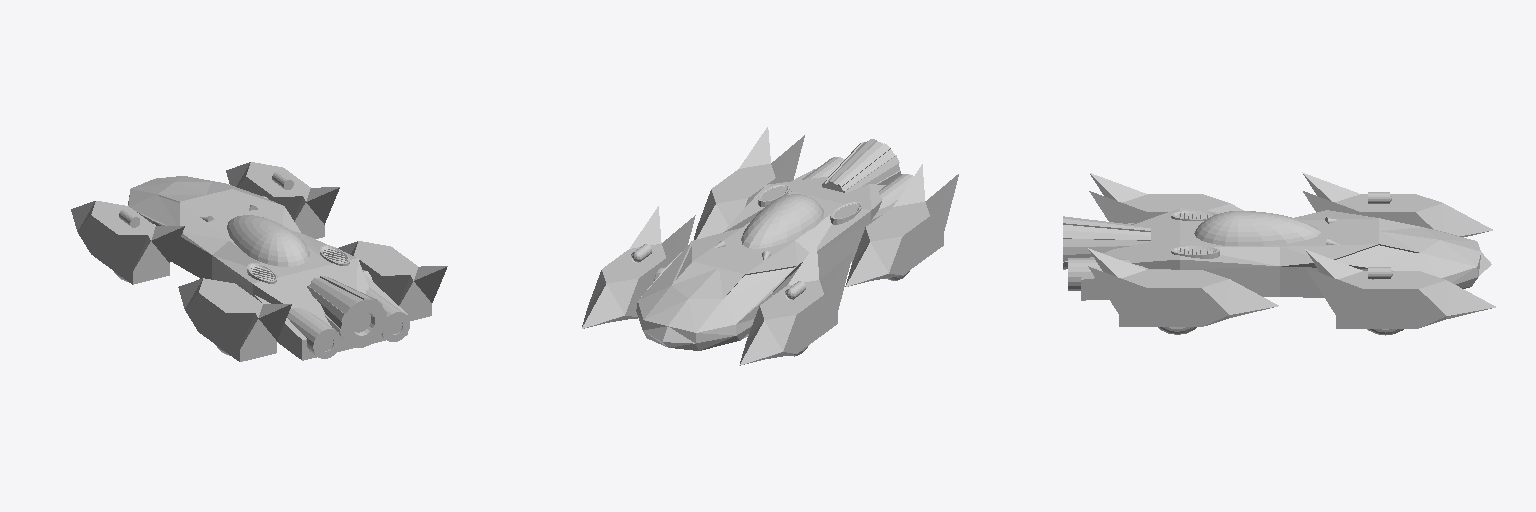
File: LandVehicle.obj
The picture shows the model from 3 angles: view 1: azimuth 30°, elevation 25°; view 2: azimuth 150°, elevation 25°; view 3: azimuth 270°, elevation 25°; orthographic projection.
Parts seen in each view (by area): view 1: Main_Body, Main_Body Back_Left, Main_Body Front_Left, Main_Body Back_Right, Main_Body Front_Right, Main_Body Big_Thrusters, Main_Body Back_Window, Main_Body Thrusters_2, Main_Body Front_Window, Main_Body Thrusters_1; view 2: Main_Body, Main_Body Back_Left, Main_Body Front_Left, Main_Body Front_Right, Main_Body Back_Right, Main_Body Big_Thrusters, Main_Body Front_Window, Main_Body Thrusters_2; view 3: Main_Body, Main_Body Back_Right, Main_Body Front_Right, Main_Body Front_Left, Main_Body Back_Left, Main_Body Big_Thrusters, Main_Body Front_Window, Main_Body Back_Window, Main_Body Thrusters_1.
Boxes of the visible parts, <box> form: Main_Body: <box>128,176,407,360</box>; Main_Body Back_Left: <box>178,278,291,361</box>; Main_Body Front_Left: <box>71,201,184,284</box>; Main_Body Back_Right: <box>338,241,447,320</box>; Main_Body Front_Right: <box>226,162,339,238</box>; Main_Body Big_Thrusters: <box>307,276,386,347</box>; Main_Body Back_Window: <box>249,229,309,266</box>; Main_Body Thrusters_2: <box>287,308,340,358</box>; Main_Body Front_Window: <box>227,215,290,255</box>; Main_Body Thrusters_1: <box>366,287,409,341</box>; Main_Body: <box>636,169,894,350</box>; Main_Body Back_Left: <box>845,164,958,286</box>; Main_Body Front_Left: <box>739,242,853,365</box>; Main_Body Front_Right: <box>582,206,695,328</box>; Main_Body Back_Right: <box>694,127,804,239</box>; Main_Body Big_Thrusters: <box>822,139,900,192</box>; Main_Body Front_Window: <box>741,199,816,248</box>; Main_Body Thrusters_2: <box>879,174,913,209</box>; Main_Body: <box>1081,208,1491,300</box>; Main_Body Back_Right: <box>1088,248,1278,326</box>; Main_Body Front_Right: <box>1305,249,1495,328</box>; Main_Body Front_Left: <box>1302,172,1492,236</box>; Main_Body Back_Left: <box>1089,173,1243,223</box>; Main_Body Big_Thrusters: <box>1063,216,1150,269</box>; Main_Body Front_Window: <box>1238,211,1320,245</box>; Main_Body Back_Window: <box>1194,211,1237,245</box>; Main_Body Thrusters_1: <box>1068,258,1147,290</box>.
Size of the model in its own units: 3.73 by 1.53 by 7.24.